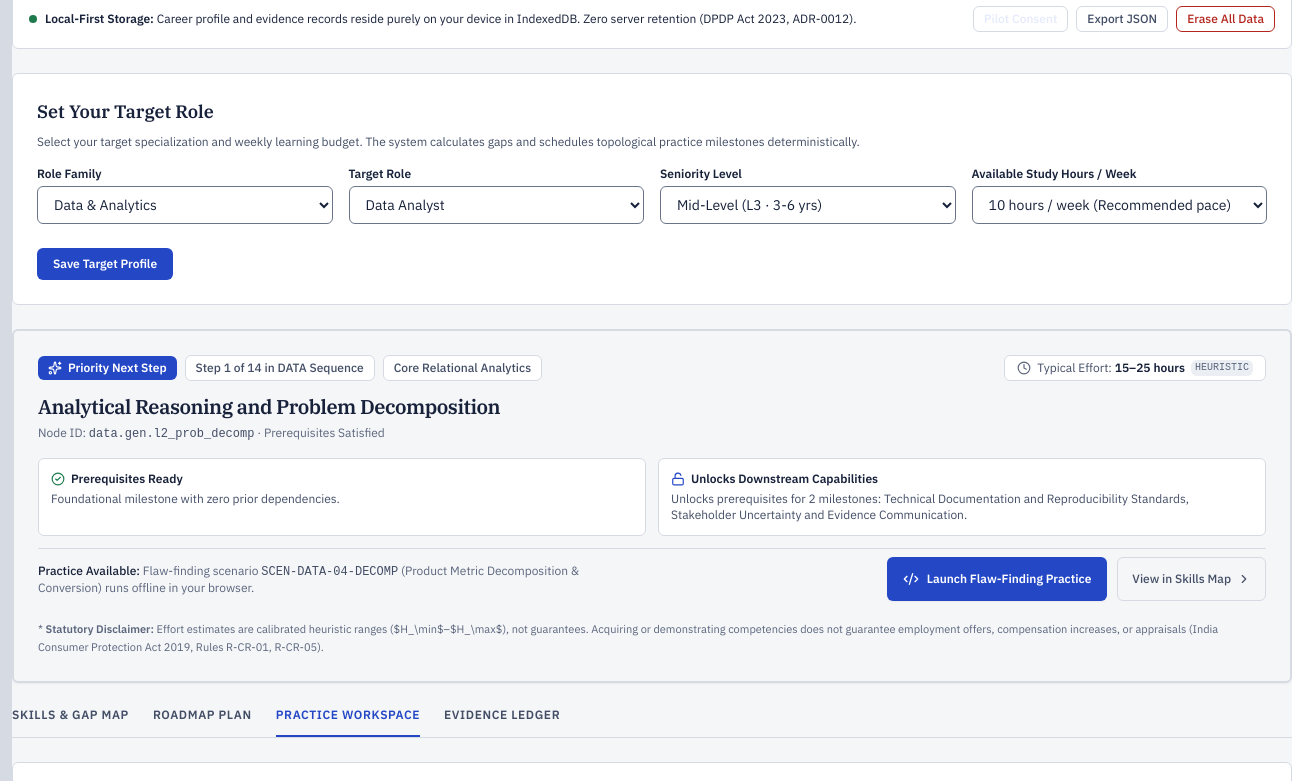
Scenario: CareerRoute (T15.28 Career Architect View) › displays completed practice scenario scores and unlocked competencies
The image size is (1292, 781).
In ledger tab, competency is demonstrated
Click the tab "Evidence Ledger". click: coordinates (502, 722)
box: [444,707,560,737]
(page scrolled)
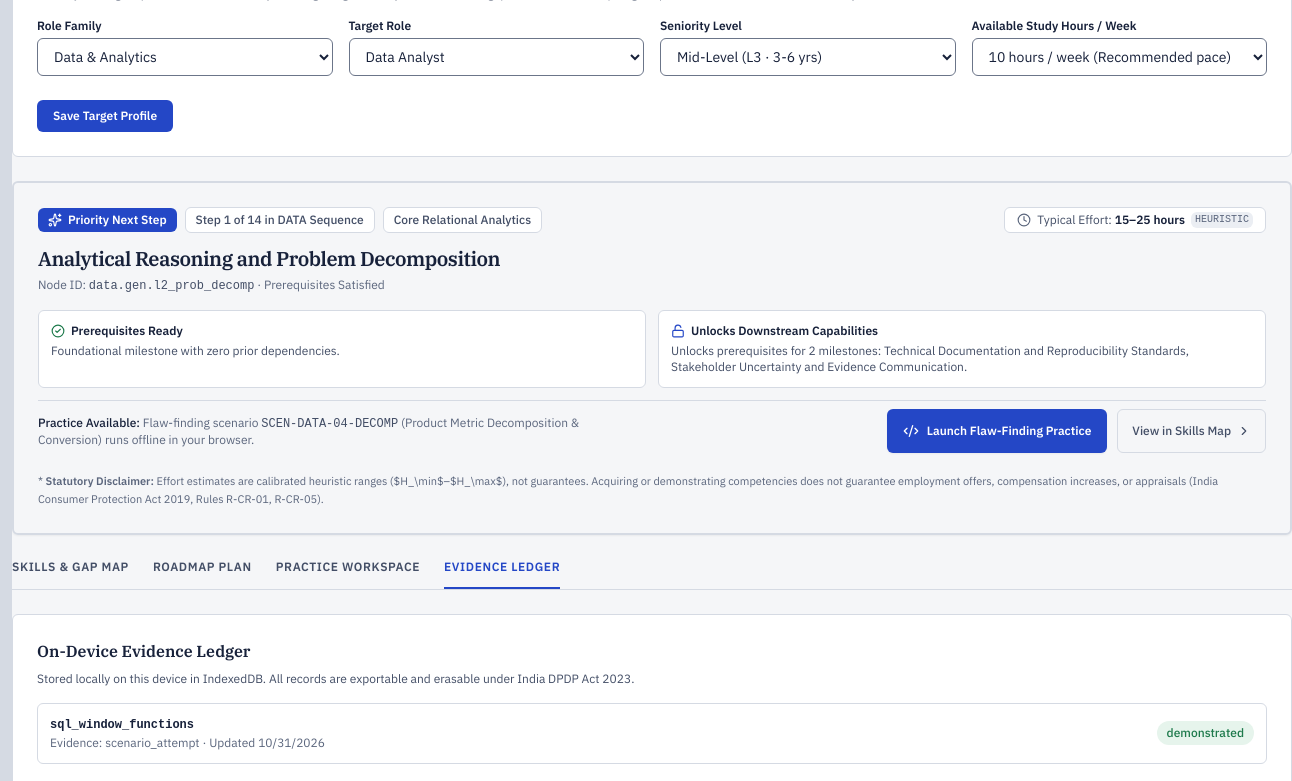
Expected: the text "sql_window_functions" is shown, [50,718,194,732]
Expected: the text "demonstrated" is shown, [1157,721,1254,745]
